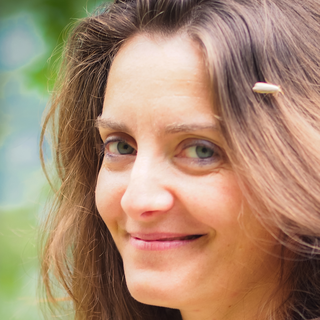eye: (166, 135, 226, 168), (95, 132, 140, 162)
